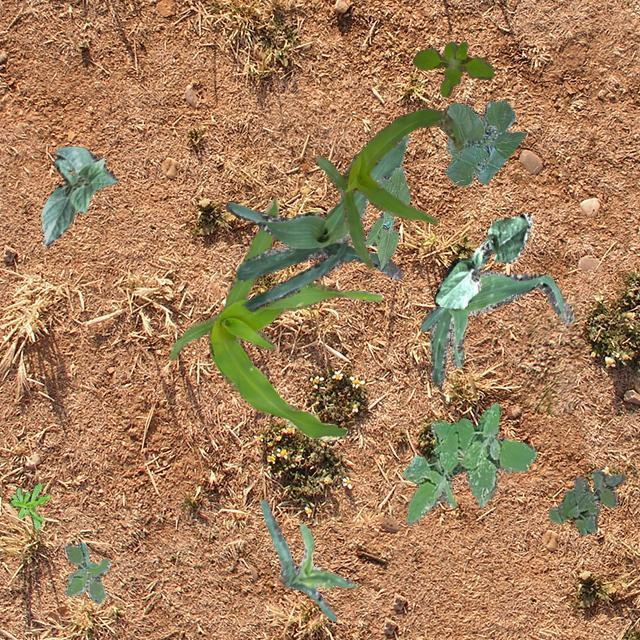crop: (168, 195, 380, 438), (225, 134, 408, 310), (314, 108, 462, 268), (420, 236, 572, 388), (260, 498, 352, 620), (433, 212, 532, 308), (41, 144, 118, 246), (444, 100, 526, 184), (364, 166, 409, 270)
weed: (402, 402, 536, 524), (548, 468, 624, 534), (412, 40, 494, 96), (64, 542, 110, 602), (8, 482, 48, 528)
